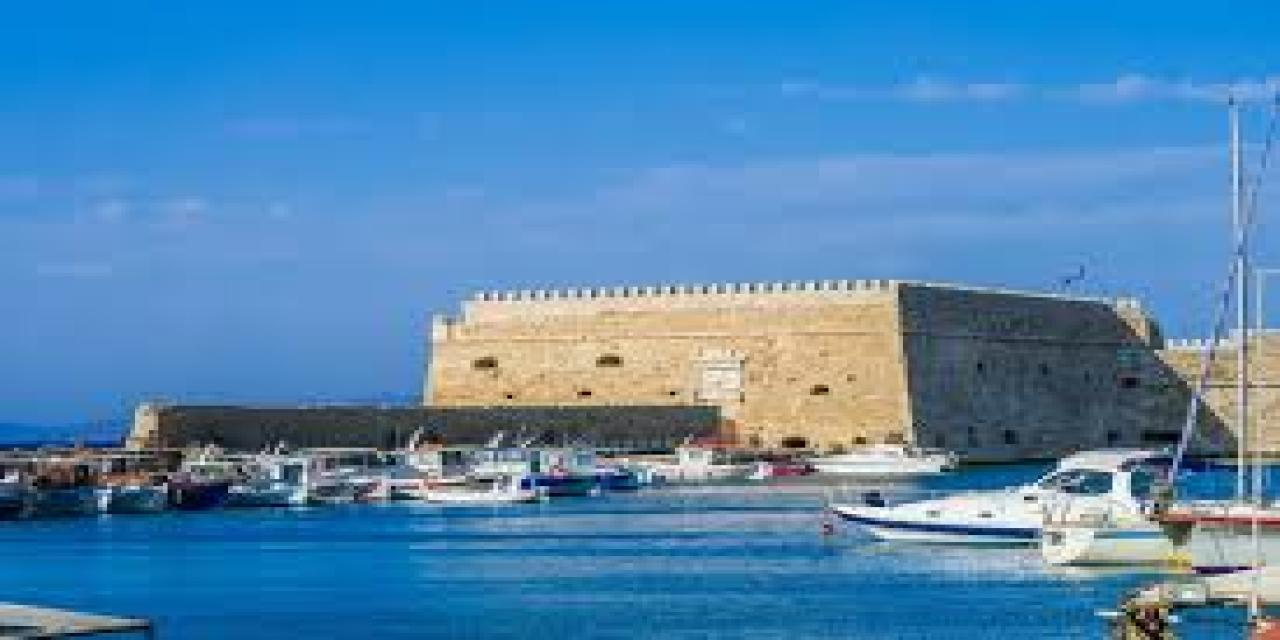Kules: (410, 280, 1280, 469)
